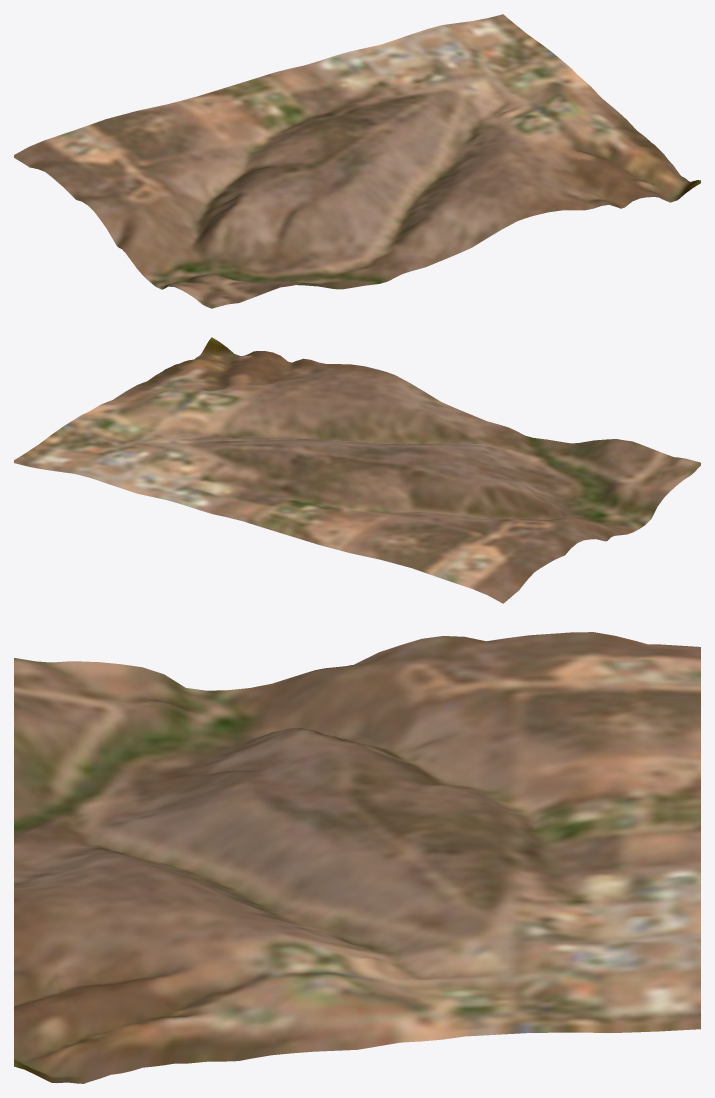
File: terrain_r4_c0_lod1.glb
3 renders of one model, top to bottom at view 1: azimuth 30°, elevation 25°; view 2: azimuth 150°, elevation 25°; view 3: azimuth 270°, elevation 25°, orthographic. The views are drawn at different scales.
Visible parts, largest first — view 1: terrain_r4_c0_lod1; view 2: terrain_r4_c0_lod1; view 3: terrain_r4_c0_lod1.
Boxes of the visible parts, x1=… form: terrain_r4_c0_lod1: x1=14, y1=14, x2=700, y2=308; terrain_r4_c0_lod1: x1=14, y1=337, x2=700, y2=603; terrain_r4_c0_lod1: x1=14, y1=632, x2=700, y2=1083.
Bounding box in the file's own units: 1125 × 117 × 787.
1 material, 1 textured.
